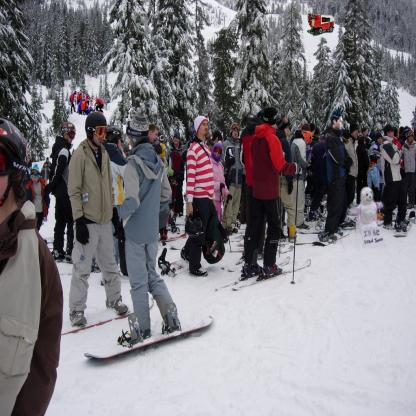Helmet: (0, 118, 28, 209), (80, 108, 108, 152), (105, 124, 123, 145), (61, 122, 76, 139)
